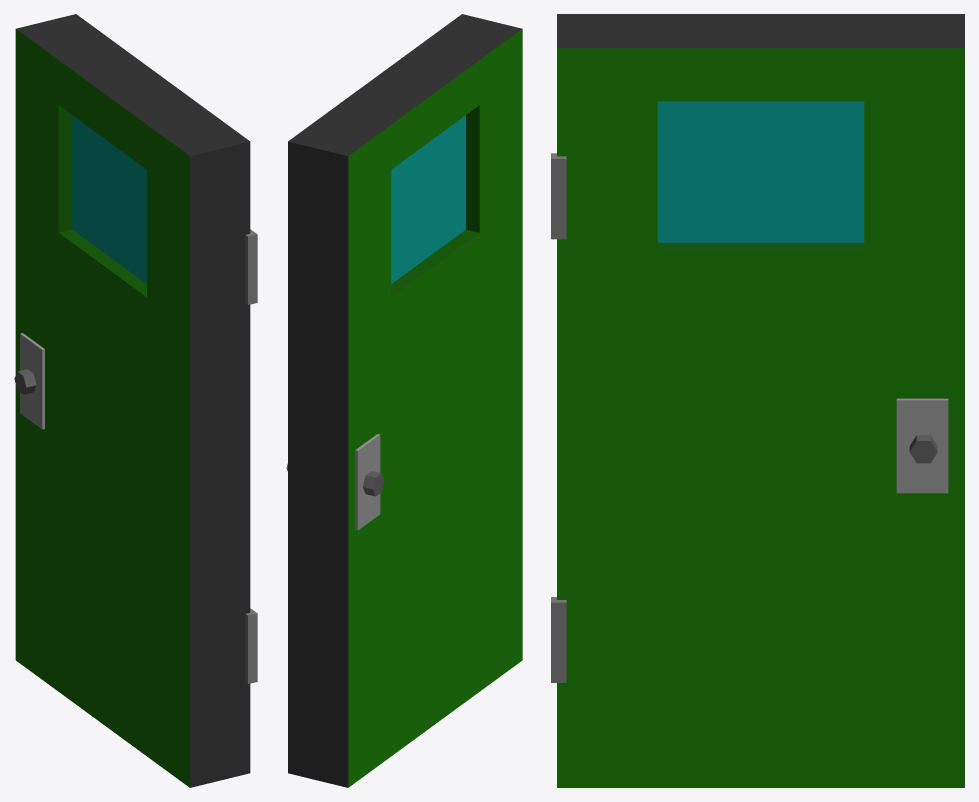
The model's file is SM_Door.fbx.
The picture shows the model from 3 angles, left to right: view 1: azimuth 30°, elevation 25°; view 2: azimuth 150°, elevation 25°; view 3: azimuth 270°, elevation 25°; orthographic projection. The views are drawn at different scales.
Parts seen in each view (by area): view 1: Cube; view 2: Cube; view 3: Cube.
Part boxes in pixels (x1,y1,x2,y2): Cube: [14, 14, 257, 787]; Cube: [286, 14, 522, 787]; Cube: [551, 14, 964, 787].
Size of the model in its own units: 28.61 by 200 by 101.
